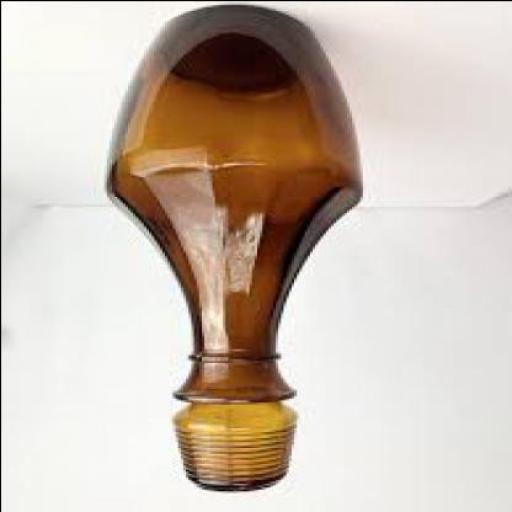glass: (100, 2, 362, 492)
